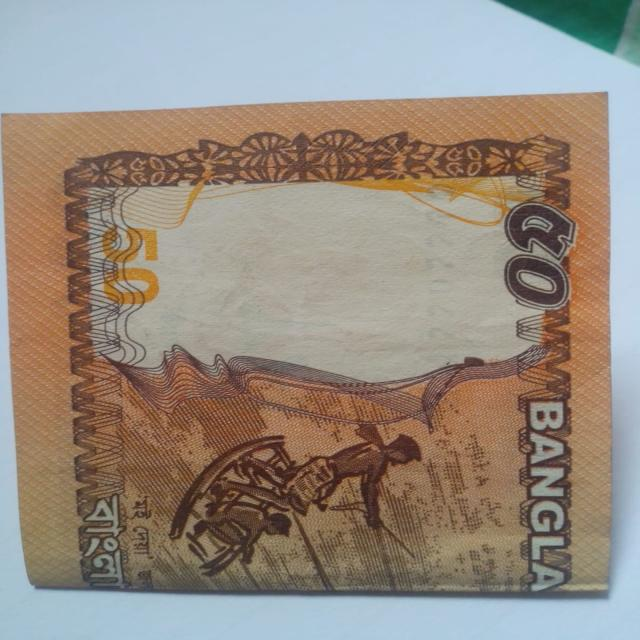Taka: (0, 100, 617, 596)
